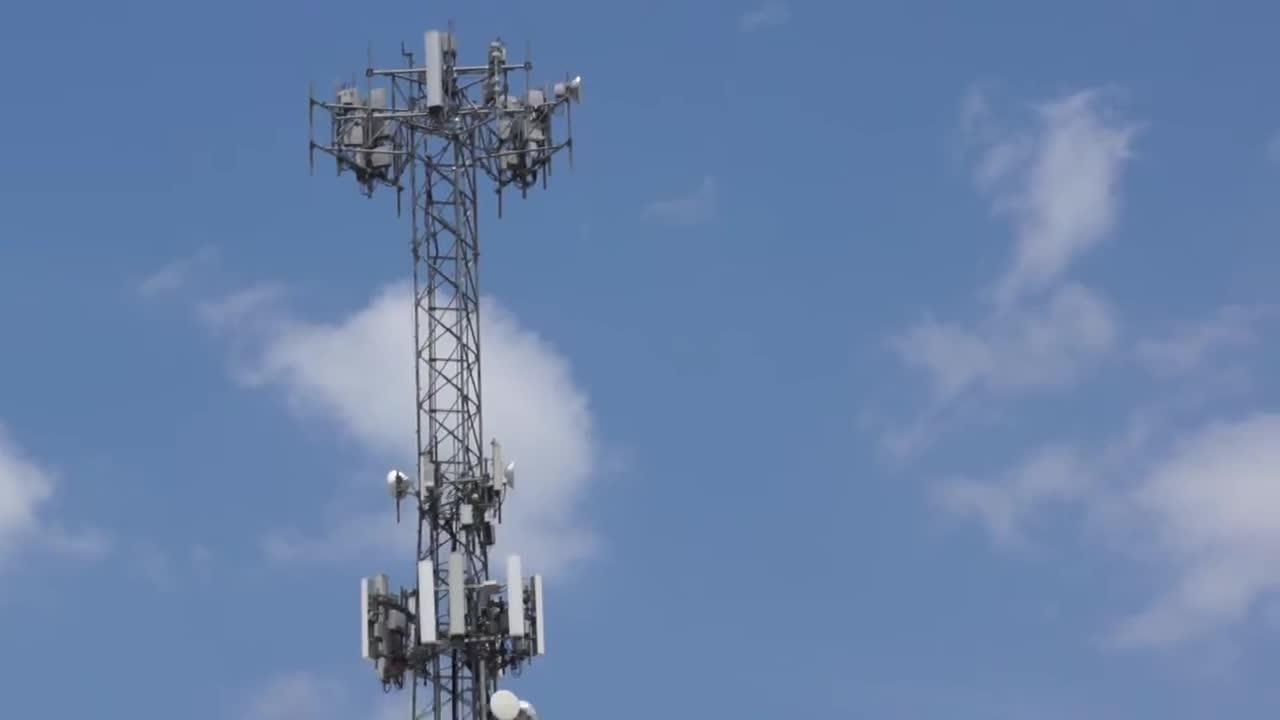Microwave Antenna: (381, 461, 411, 511), (551, 77, 590, 106), (501, 463, 523, 500)
antenna: (350, 565, 387, 681), (500, 542, 535, 663), (418, 17, 449, 125), (531, 562, 560, 673), (414, 553, 442, 655), (449, 564, 474, 661), (491, 438, 508, 498)
